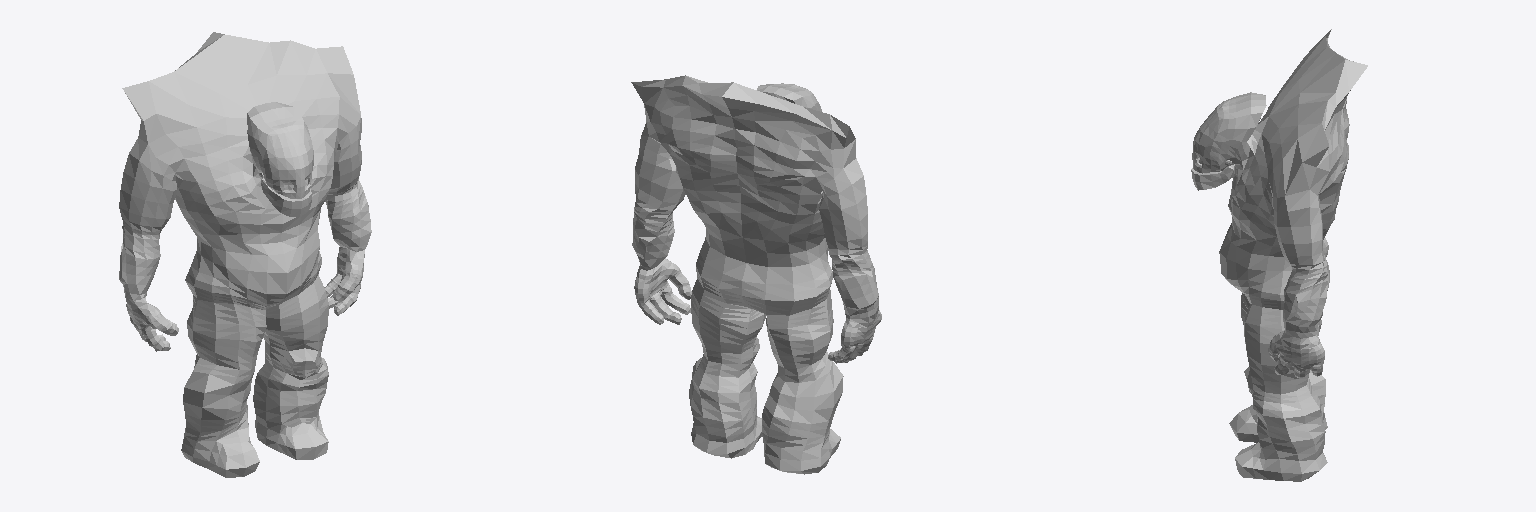
Rendered from golem_000015.obj.
3 renders of one model, left to right at view 1: azimuth 30°, elevation 25°; view 2: azimuth 150°, elevation 25°; view 3: azimuth 270°, elevation 25°, orthographic.
Parts seen in each view (by area): view 1: golem; view 2: golem; view 3: golem.
Boxes of the visible parts, <box> form: golem: <box>119,32,371,477</box>; golem: <box>631,75,881,474</box>; golem: <box>1191,29,1367,481</box>.
Size of the model in its own units: 7.35 by 11.3 by 4.61.